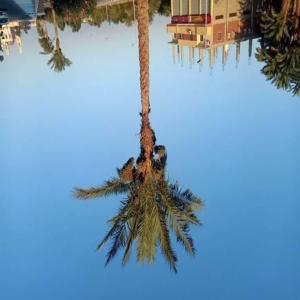palm tree: (70, 0, 205, 274), (254, 0, 300, 97)
